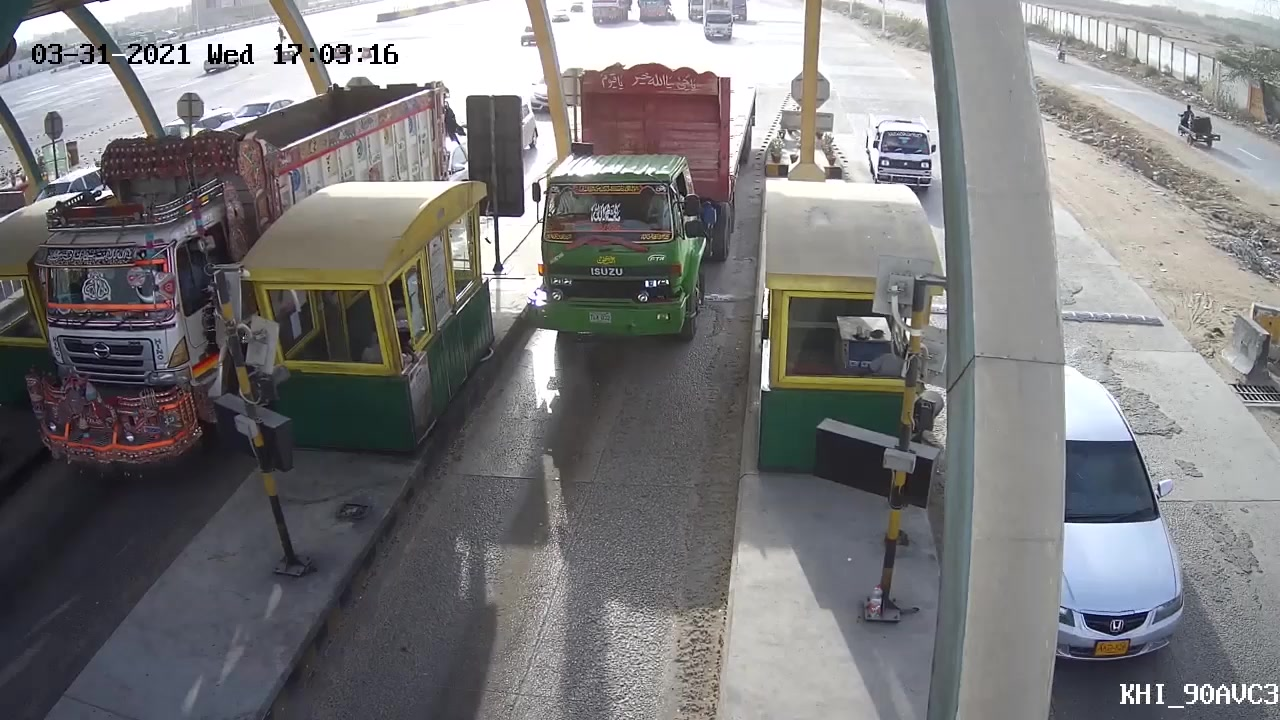F5: (525, 51, 757, 373)
